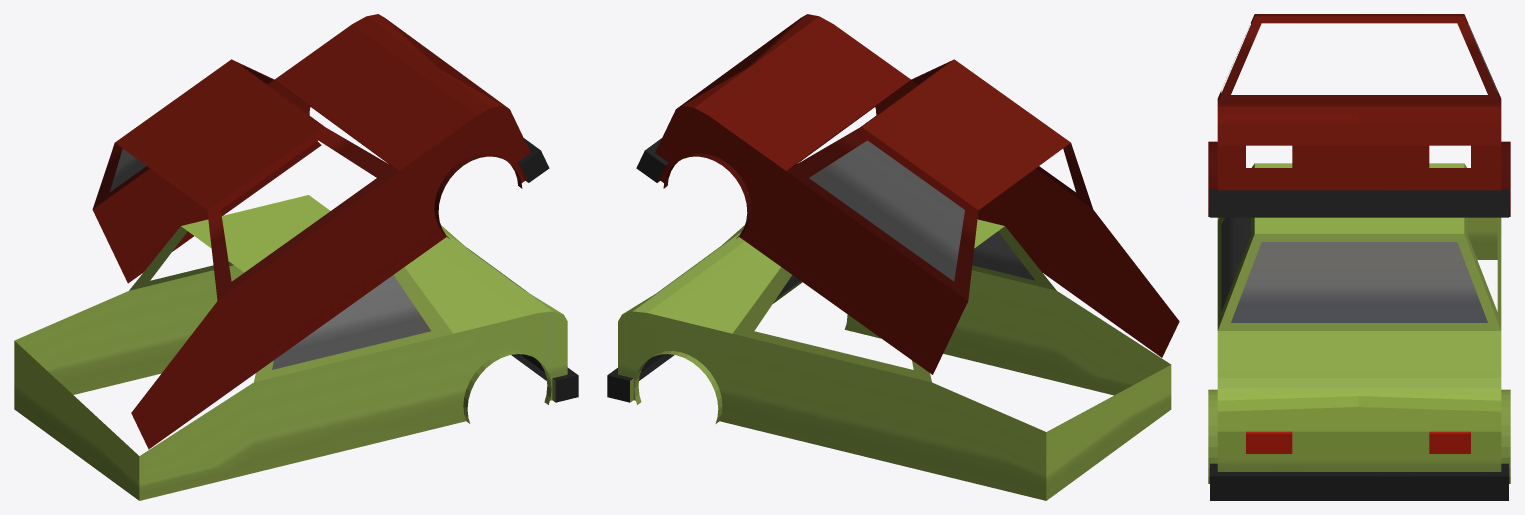
File: Carro3.glb
The picture shows the model from 3 angles, left to right: view 1: azimuth 30°, elevation 25°; view 2: azimuth 150°, elevation 25°; view 3: azimuth 270°, elevation 25°; orthographic projection. The views are drawn at different scales.
Parts seen in each view (by area): view 1: Carro3; view 2: Carro3; view 3: Carro3.
Part boxes in pixels (left/top/right/bottom): Carro3: left=14, top=14, right=578, bottom=500; Carro3: left=607, top=14, right=1179, bottom=500; Carro3: left=1208, top=14, right=1510, bottom=500.
Size of the model in its own units: 4.1 by 2.76 by 2.14.
1 material, 1 textured.
